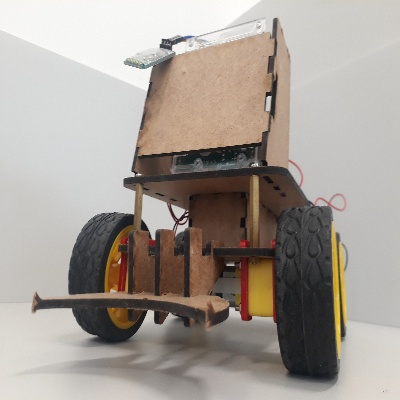Robot: (35, 18, 347, 380)
